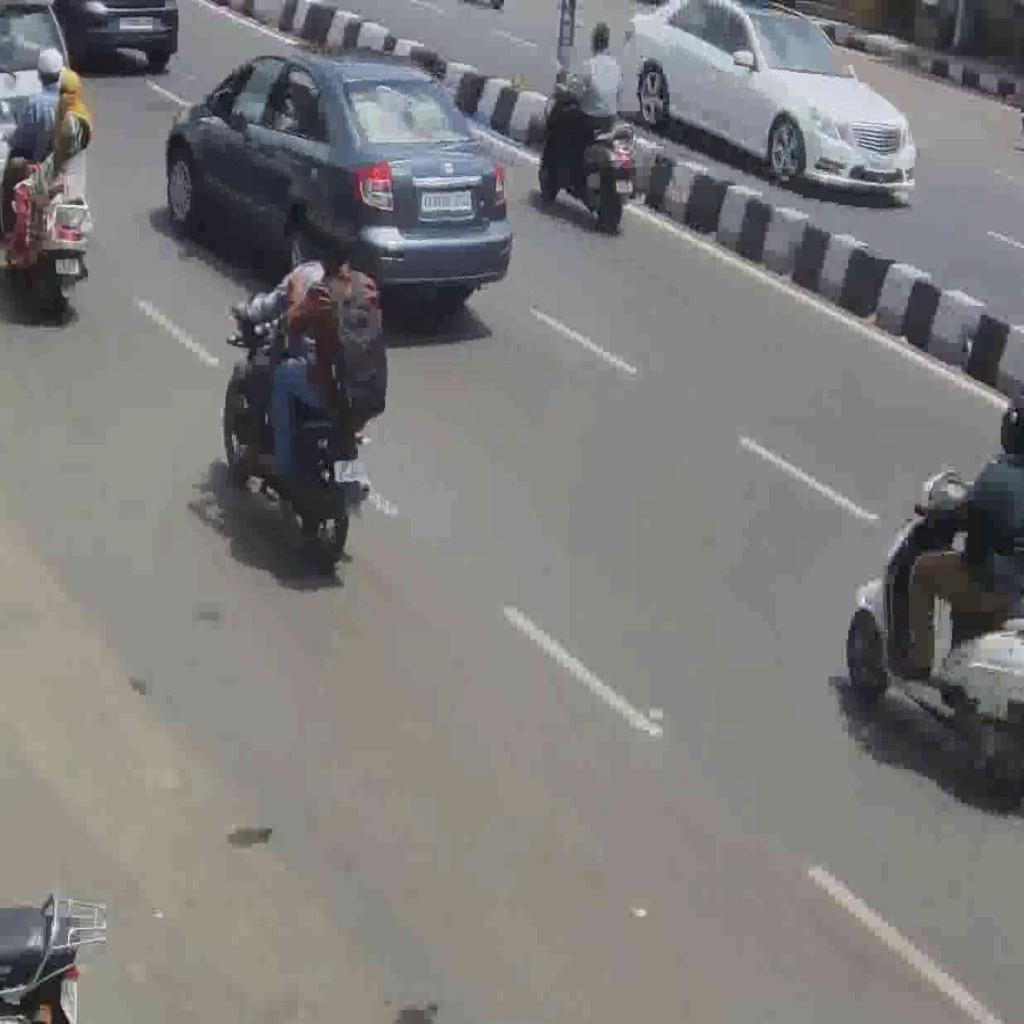bike: (842, 469, 1024, 798), (223, 306, 372, 563), (1, 144, 95, 326), (535, 75, 640, 236)
helmet: (993, 401, 1023, 468)
lisc: (332, 459, 365, 483), (56, 259, 80, 275), (616, 181, 632, 195)
no_helmet: (285, 216, 324, 280), (325, 218, 357, 276), (36, 44, 64, 90), (58, 69, 84, 113), (588, 20, 615, 54)
rider: (897, 399, 1024, 694), (256, 216, 386, 495), (234, 214, 326, 524), (6, 64, 92, 252), (548, 19, 624, 153), (4, 44, 64, 192)
